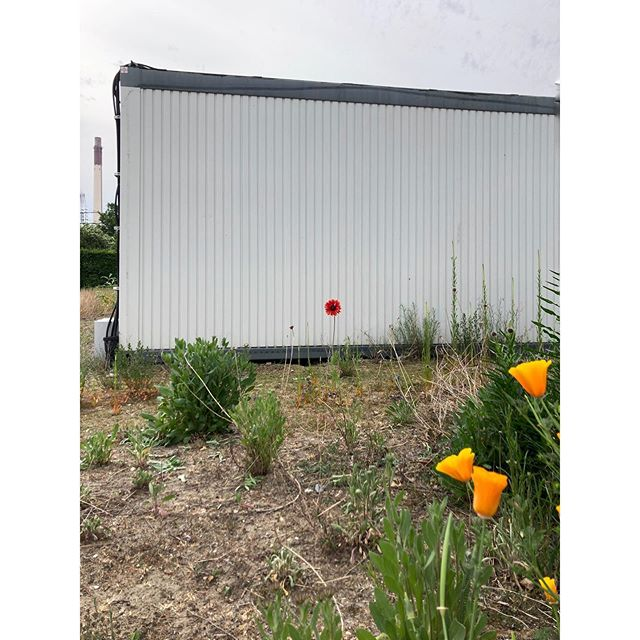building: (113, 77, 562, 357)
flowers: (411, 339, 561, 633)
sky: (80, 1, 557, 93)
